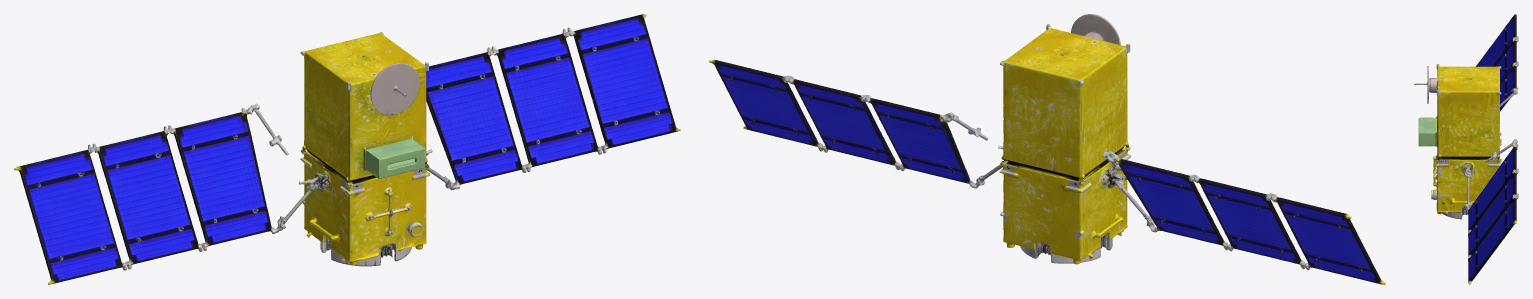
The model's file is modelo_3.glb.
The picture shows the model from 3 angles, left to right: view 1: azimuth 30°, elevation 25°; view 2: azimuth 150°, elevation 25°; view 3: azimuth 270°, elevation 25°; orthographic projection. The views are drawn at different scales.
Parts seen in each view (by area): view 1: Mesh_0; view 2: Mesh_0; view 3: Mesh_0.
Part boxes in pixels (x1=…): Mesh_0: x1=14, y1=14, x2=680, y2=284; Mesh_0: x1=709, y1=14, x2=1385, y2=284; Mesh_0: x1=1414, y1=14, x2=1518, y2=284.
Size of the model in its own units: 1.9 by 0.5878 by 0.4013.
Materials: 1 (1 with a texture image).
